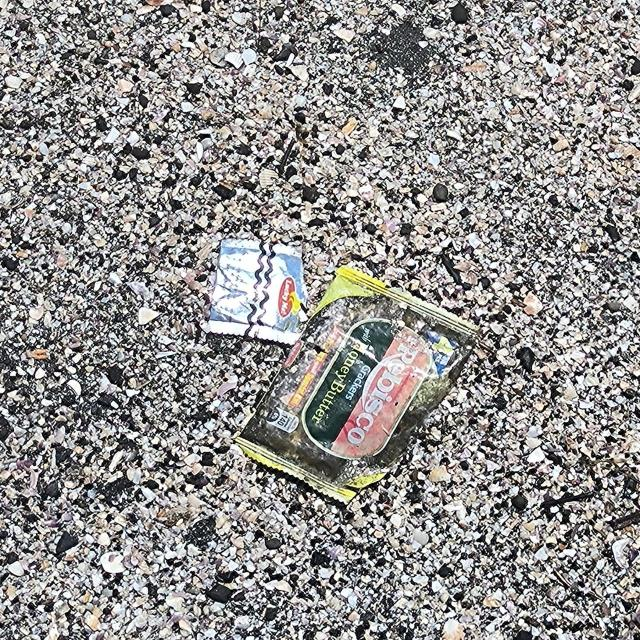plastic_waste: (235, 266, 481, 506), (209, 239, 309, 347)
